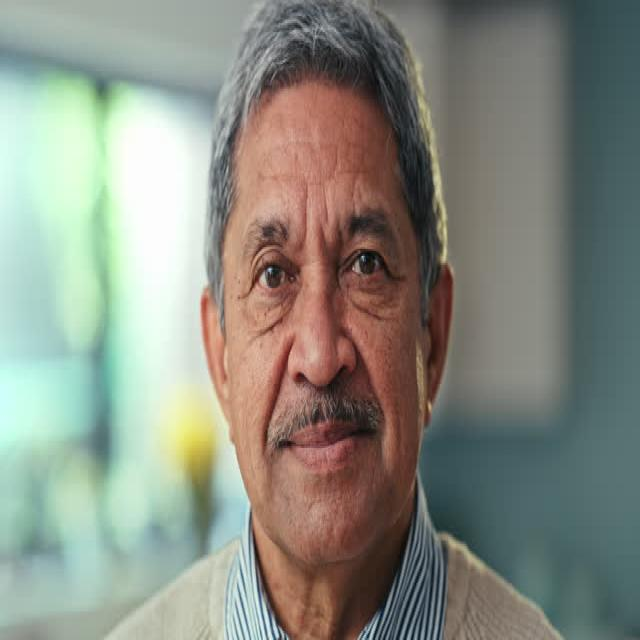Nonhelmet: (194, 0, 462, 591)
